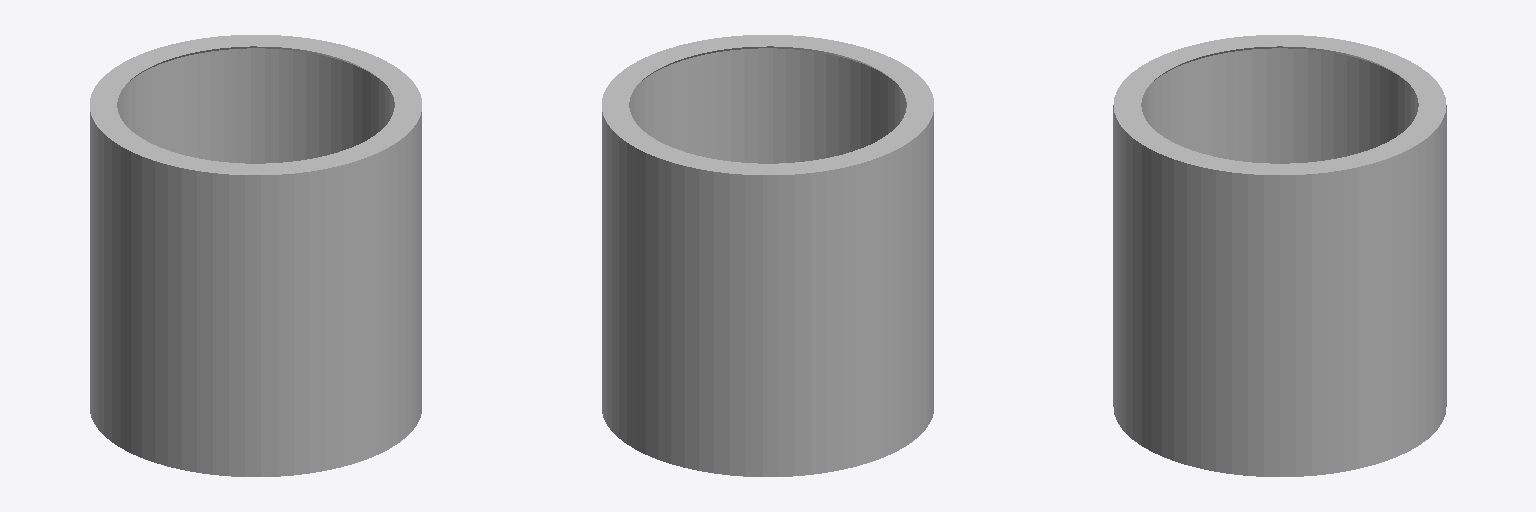
The model's file is warp pipe (extension).obj.
3 renders of one model, left to right at view 1: azimuth 30°, elevation 25°; view 2: azimuth 150°, elevation 25°; view 3: azimuth 270°, elevation 25°, orthographic.
Parts seen in each view (by area): view 1: obj_0; view 2: obj_0; view 3: obj_0.
Part boxes in pixels (bbox=[...]): obj_0: bbox=[90, 35, 421, 476]; obj_0: bbox=[602, 35, 933, 476]; obj_0: bbox=[1113, 35, 1446, 476].
Bounding box in the file's own units: 40 × 40 × 40.